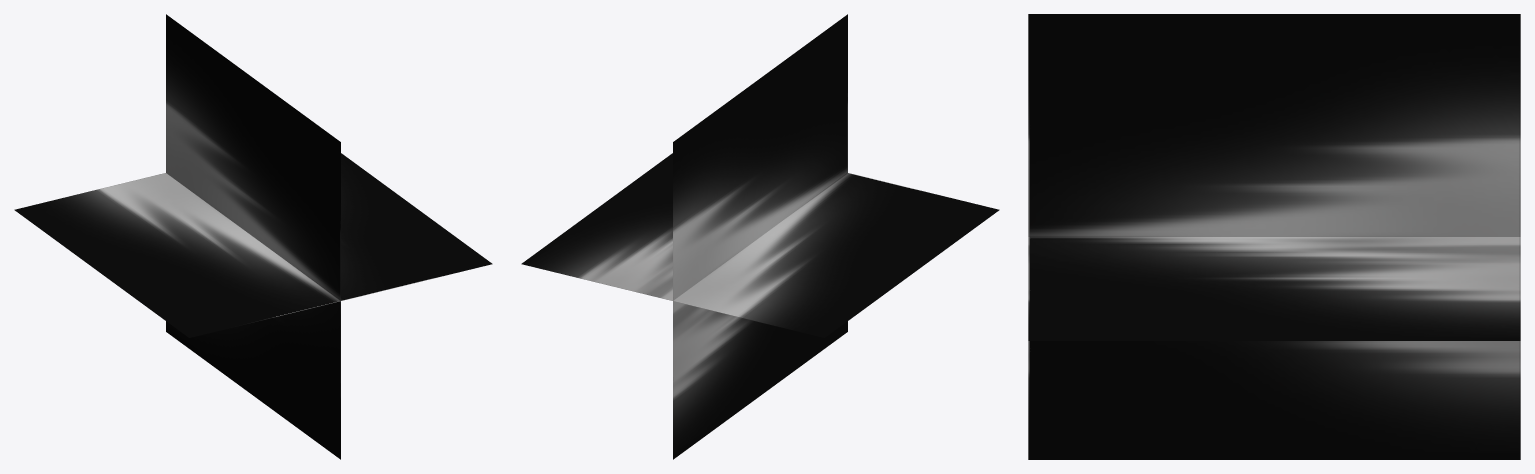
The model's file is shizimianpian_zhouxinpianyi 1.FBX.
3 views of the same model, side by side, from view 1: azimuth 30°, elevation 25°; view 2: azimuth 150°, elevation 25°; view 3: azimuth 270°, elevation 25° (orthographic). The views are drawn at different scales.
Parts seen in each view (by area): view 1: shizimianpian; view 2: shizimianpian; view 3: shizimianpian.
Boxes of the visible parts, box(x1,y1,x2,y2) form: shizimianpian: box(14, 14, 492, 459); shizimianpian: box(521, 14, 999, 459); shizimianpian: box(1028, 14, 1520, 459).
Size of the model in its own units: 39.37 by 39.37 by 39.37.
